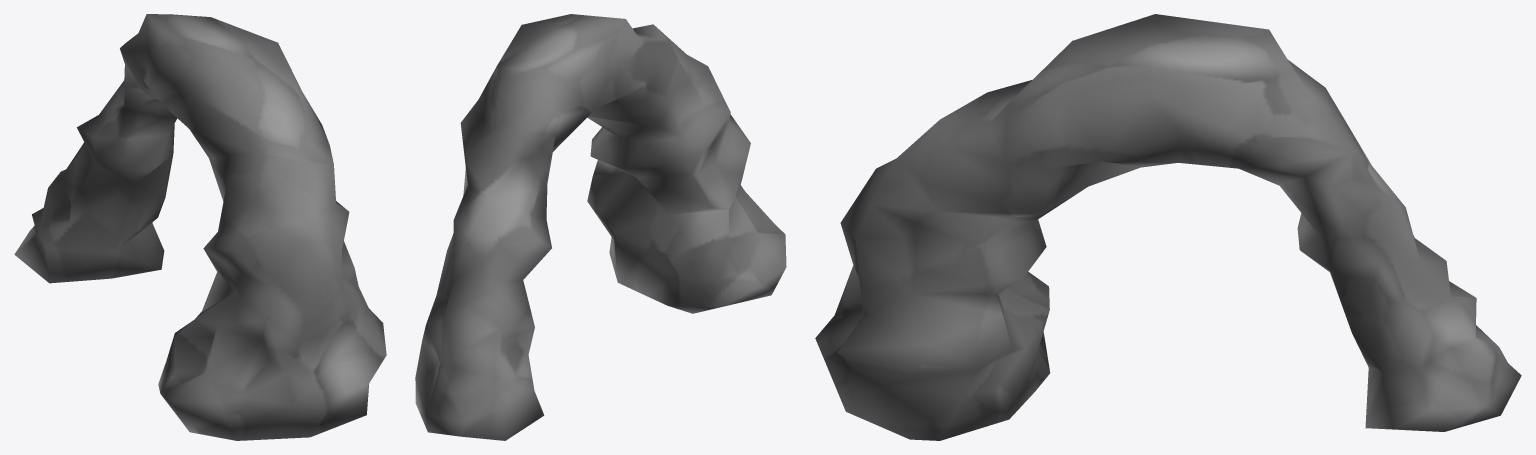
File: my_mesh_Arch Small.glb
3 renders of one model, left to right at view 1: azimuth 30°, elevation 25°; view 2: azimuth 150°, elevation 25°; view 3: azimuth 270°, elevation 25°, orthographic. The views are drawn at different scales.
Visible parts, largest first — view 1: Arch Small; view 2: Arch Small; view 3: Arch Small.
Boxes of the visible parts, x1=… form: Arch Small: x1=14, y1=14, x2=386, y2=440; Arch Small: x1=415, y1=14, x2=786, y2=440; Arch Small: x1=815, y1=14, x2=1521, y2=440.
Size of the model in its own units: 55.78 by 80.64 by 138.
1 material, 1 textured.
